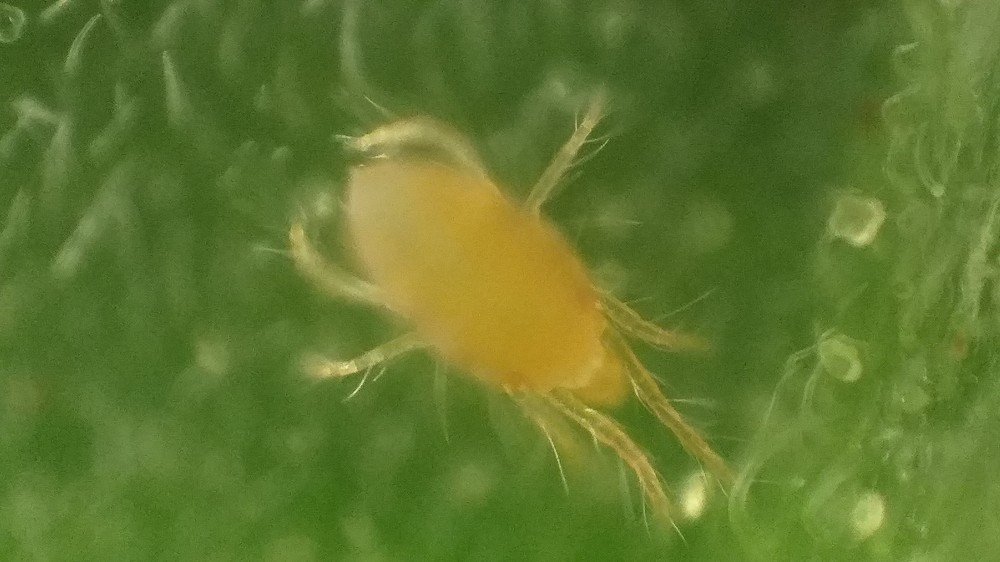Aracnido Rojo: (278, 88, 762, 528)
